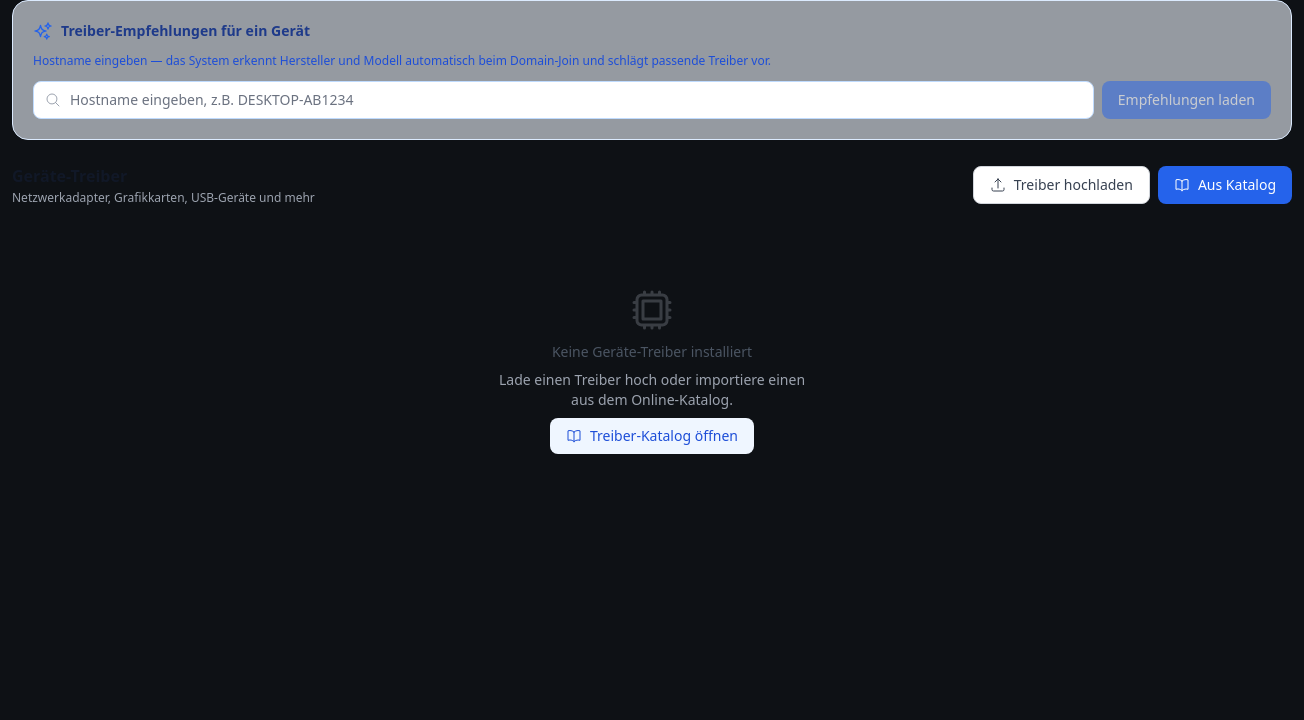
DeviceDriversTab › a recommendation without downloadUrl or aptPackage renders a disabled import button
expect the text "Keine Geräte-Treiber installiert" is shown: met, box [552, 342, 752, 362]
Type "host1" into the field with placeholder "Hostname eingeben, z.B. DESKTOP-AB1234". click: (563, 100)
box: [33, 81, 1094, 119]
Then press Enter
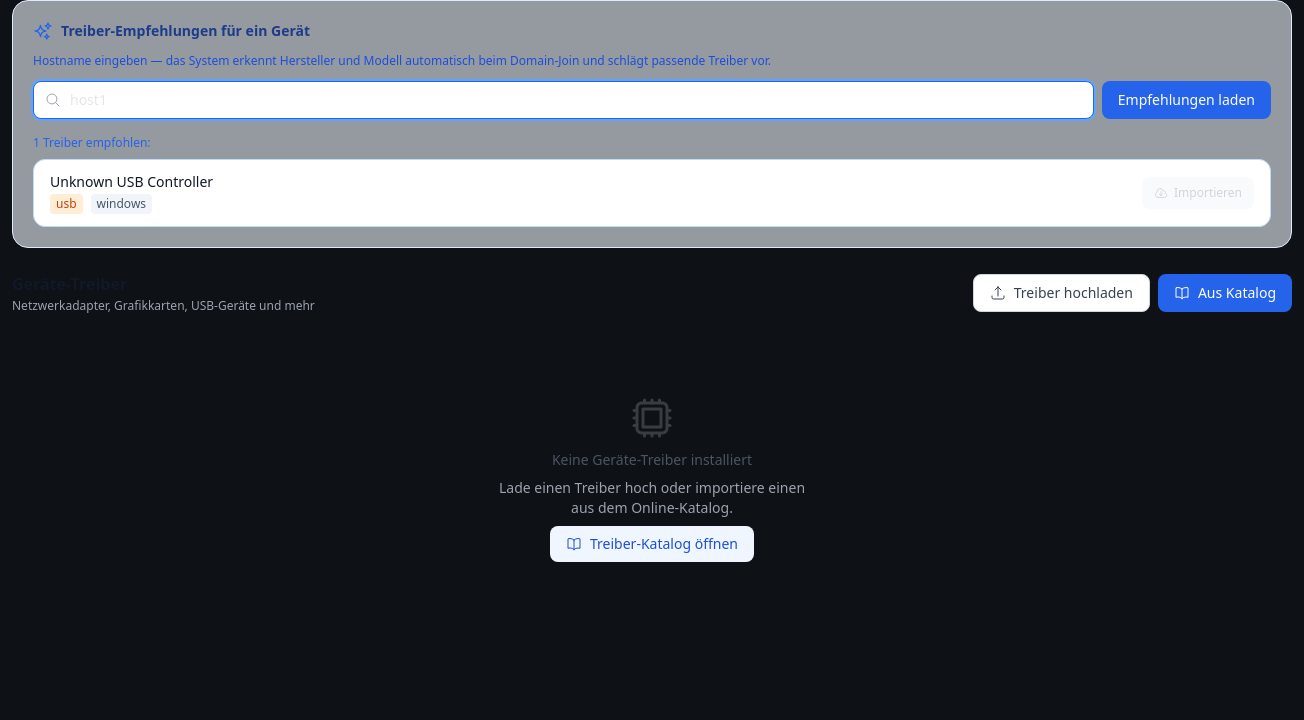
expect the text "Unknown USB Controller" is shown: met, box [50, 172, 213, 191]
expect the button "Importieren" is disabled: met, box [1142, 177, 1254, 209]
